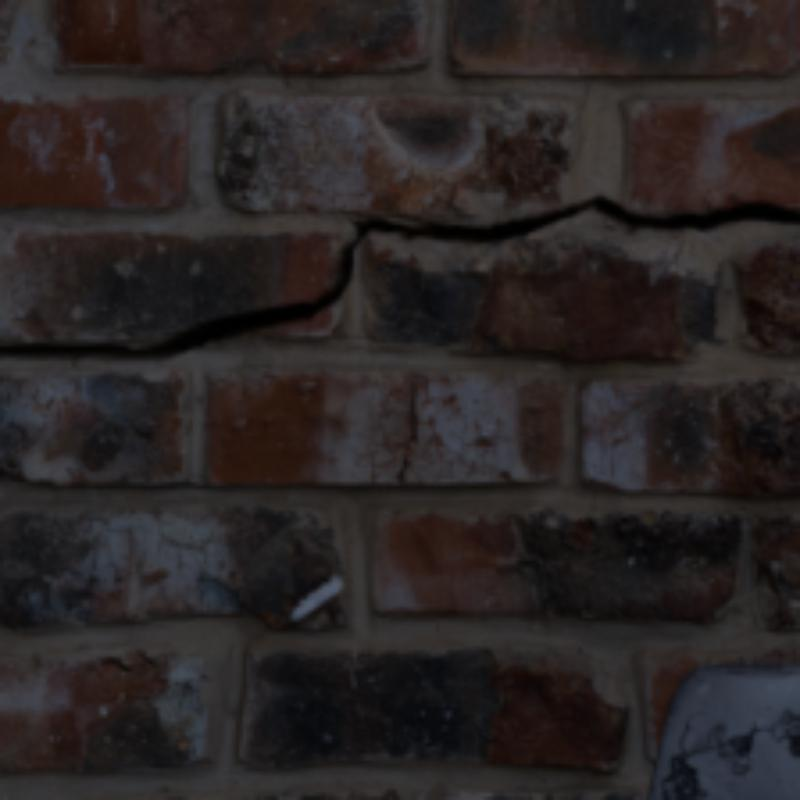pothole: (0, 193, 796, 361), (393, 379, 418, 486)
